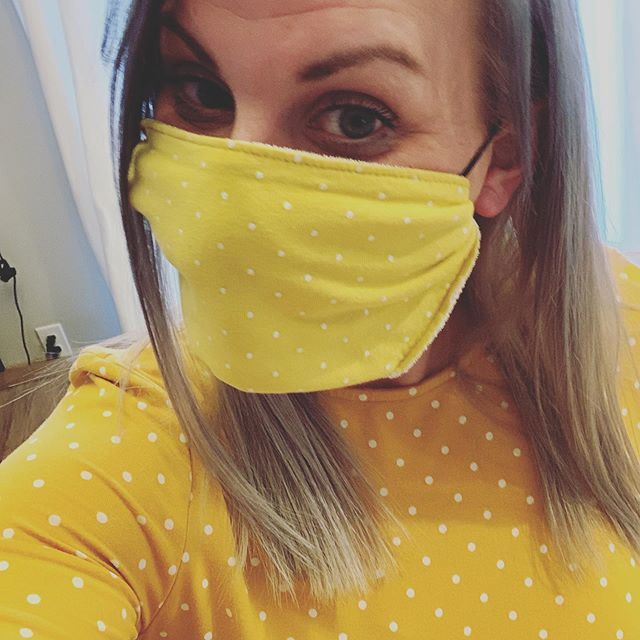homemade: (125, 113, 491, 390)
